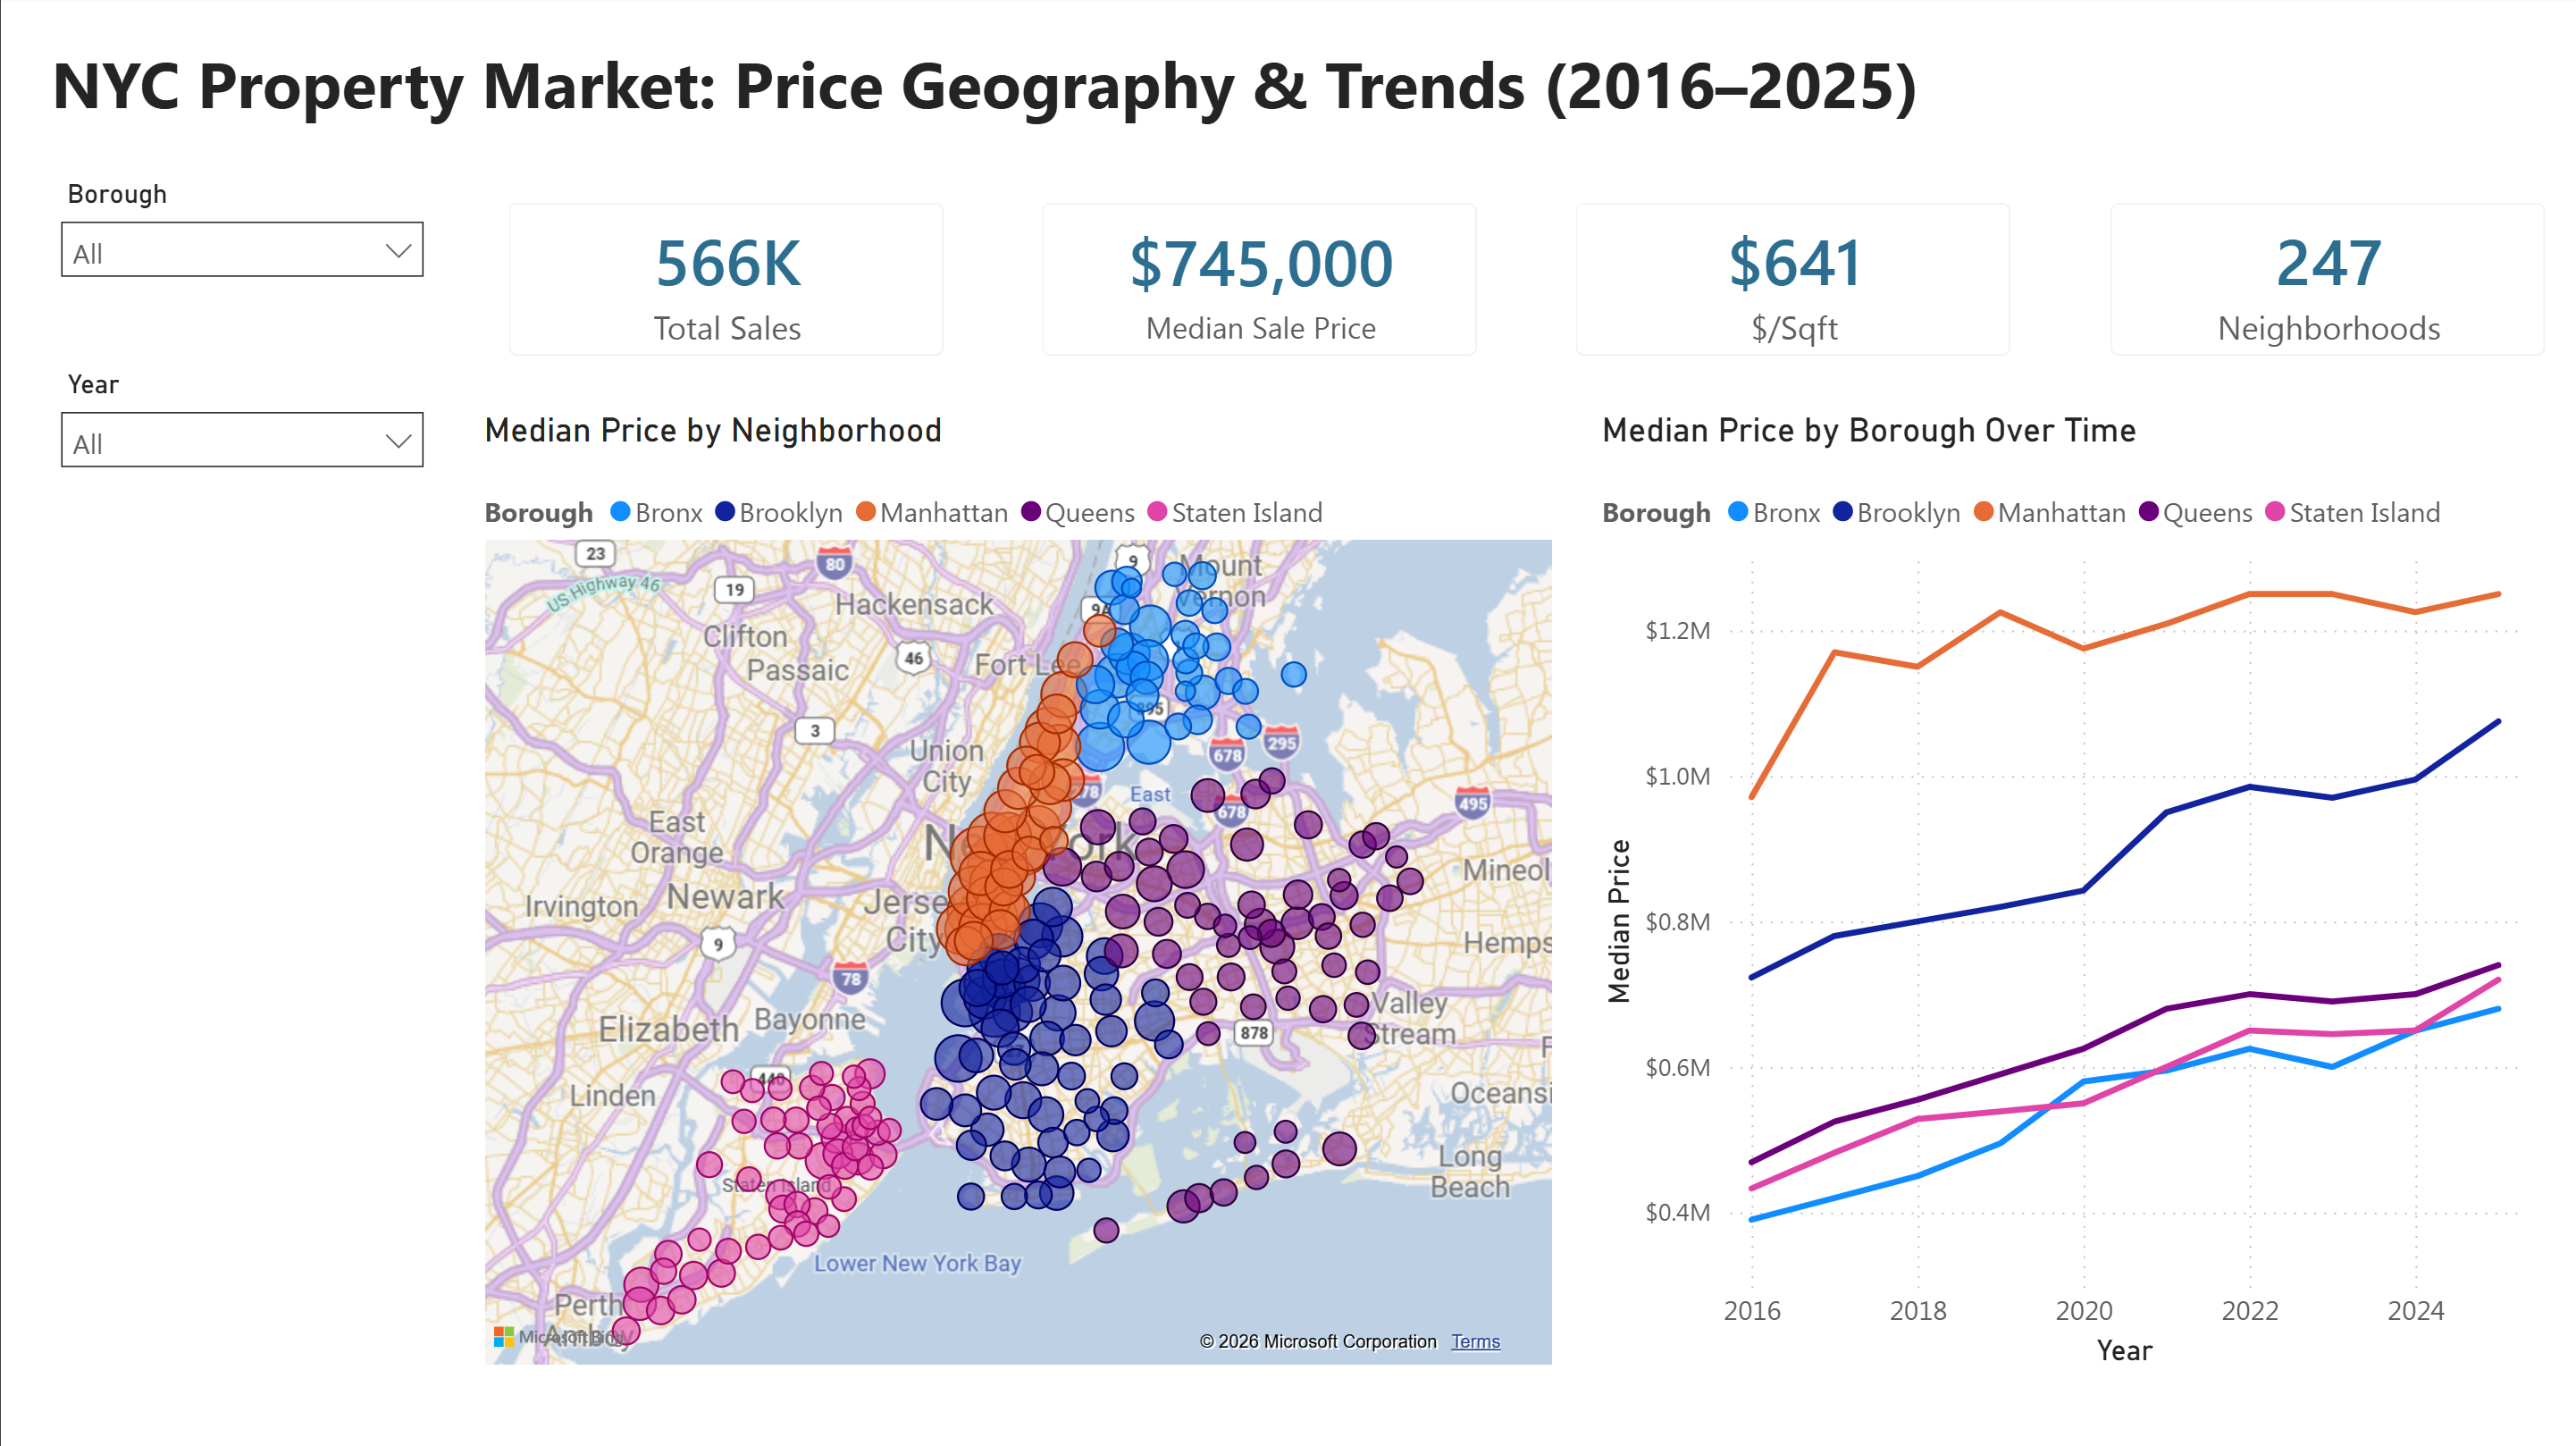

The page's visual inventory and layout, read from the dashboard file:
{"tool":"powerbi","page":{"name":"The NYC Market","canvas":[1280,720],"ordinal":0},"visuals":[{"type":"map","title":"Median Price by Neighborhood","fields":{"Y":["neighborhood_map.lat"],"X":["neighborhood_map.lng"],"Series":["neighborhood_map.borough_name"],"Size":["Sum(neighborhood_map.avg_price)"]},"box":[235,205,540,480],"z":0},{"type":"textbox","box":[20,15,1240,55],"z":1000},{"type":"cardVisual","fields":{"Data":["Sum(price_by_borough_year.num_sales)"]},"box":[235,85,250,110],"z":2000},{"type":"cardVisual","fields":{"Data":["Count(neighborhood_map.neighborhood)"]},"box":[1030.2,85,250,110],"z":3000},{"type":"cardVisual","fields":{"Data":["sales_sample.Median Sale Price"]},"box":[500,85,250,110],"z":4000},{"type":"cardVisual","fields":{"Data":["Avg(neighborhood_map.avg_ppsf)"]},"box":[765,85,250,110],"z":5000},{"type":"lineChart","title":"Median Price by Borough Over Time","fields":{"Y":["Median(price_trend.sale_price)"],"Category":["price_trend.sale_year"],"Series":["price_trend.borough_name"]},"box":[790,205,470,480],"z":6000},{"type":"slicer","fields":{"Values":["neighborhood_map.borough_name"]},"box":[20,85,200,85],"z":7000},{"type":"slicer","fields":{"Values":["price_by_borough_year.sale_year"]},"box":[20,180,200,85],"z":8000}]}

Visuals, with their boxes in screenshot pixels (x1, y1, x2, y2), scaled from the page's 1280x720 canvas onto the 2576x1446 screenshot:
"Median Price by Neighborhood" map: (473,412,1560,1375)
textbox: (40,30,2536,140)
cardVisual - Sum(price_by_borough_year.num_sales): (473,171,976,391)
cardVisual - Count(neighborhood_map.neighborhood): (2073,171,2575,391)
cardVisual - sales_sample.Median Sale Price: (1006,171,1509,391)
cardVisual - Avg(neighborhood_map.avg_ppsf): (1540,171,2043,391)
"Median Price by Borough Over Time" lineChart: (1590,412,2536,1375)
slicer - neighborhood_map.borough_name: (40,171,443,341)
slicer - price_by_borough_year.sale_year: (40,361,443,533)
